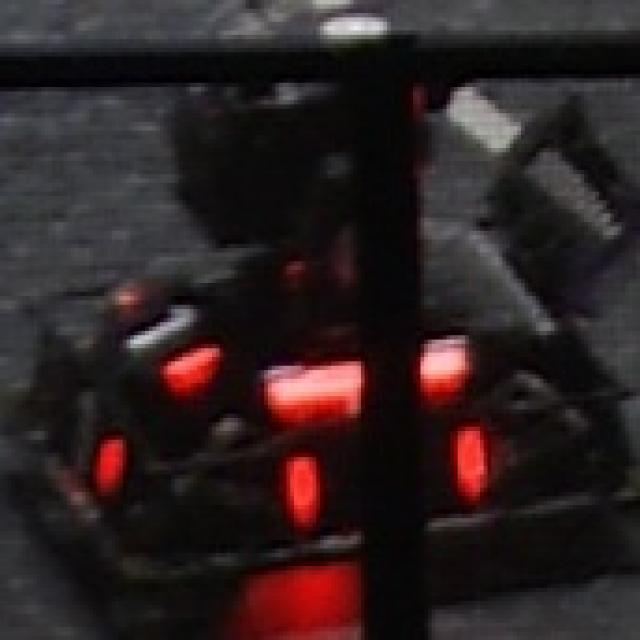R1: (112, 283, 223, 387)
